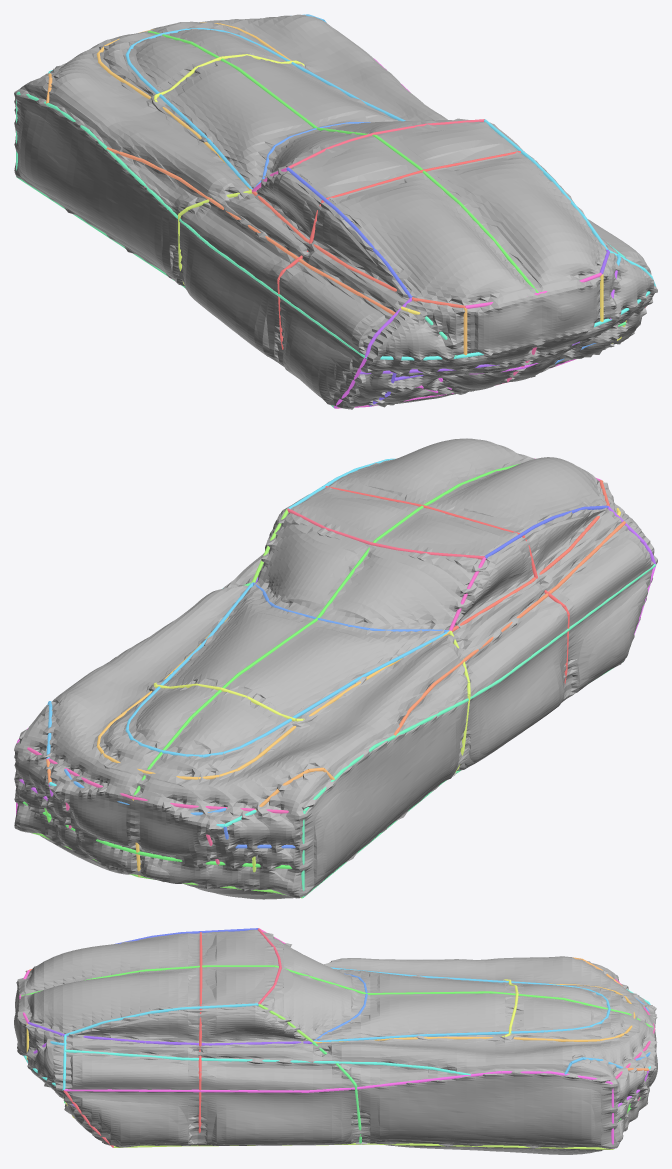
File: t2f_car_93.gltf
3 renders of one model, top to bottom at view 1: azimuth 30°, elevation 25°; view 2: azimuth 150°, elevation 25°; view 3: azimuth 270°, elevation 25°, orthographic. The views are drawn at different scales.
Size of the model in its own units: 0.4037 by 0.2538 by 0.9162.
